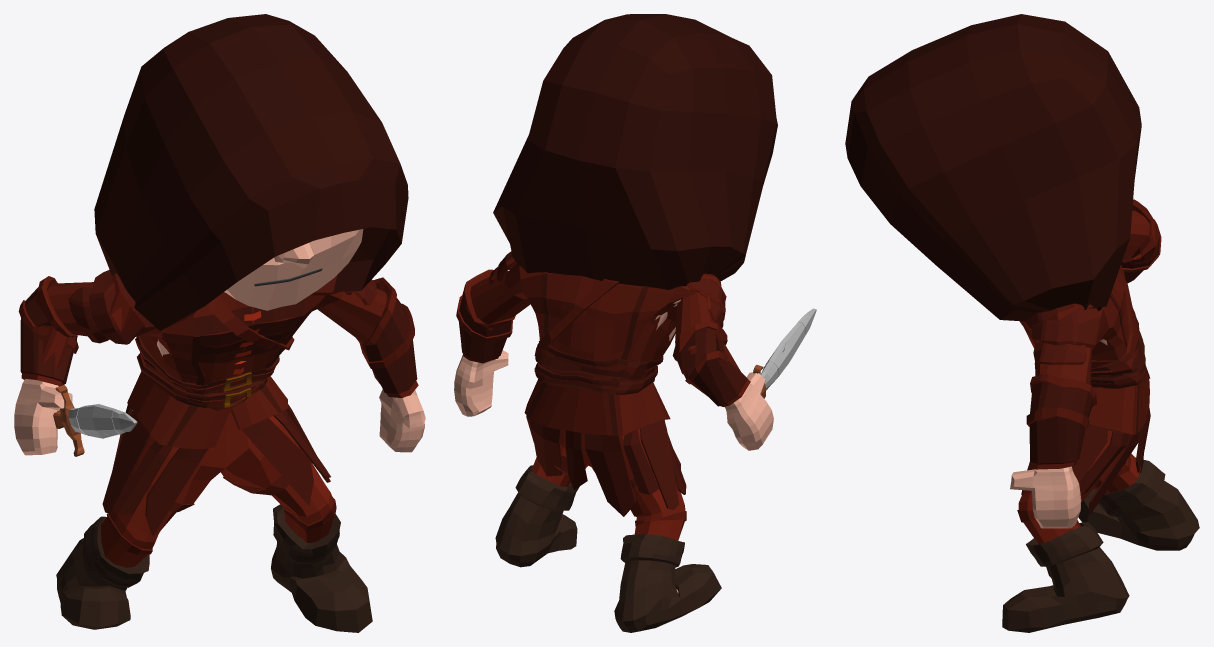
The model's file is Thief_Pose.fbx.
3 views of the same model, side by side, from view 1: azimuth 30°, elevation 25°; view 2: azimuth 150°, elevation 25°; view 3: azimuth 270°, elevation 25° (orthographic). The views are drawn at different scales.
Parts seen in each view (by area): view 1: Dolch_001; view 2: Dolch_001; view 3: Dolch_001.
Part boxes in pixels (left/top/right/bottom): Dolch_001: left=14, top=14, right=425, bottom=632; Dolch_001: left=454, top=14, right=816, bottom=632; Dolch_001: left=845, top=14, right=1199, bottom=632.
Size of the model in its own units: 236 by 377 by 215.
